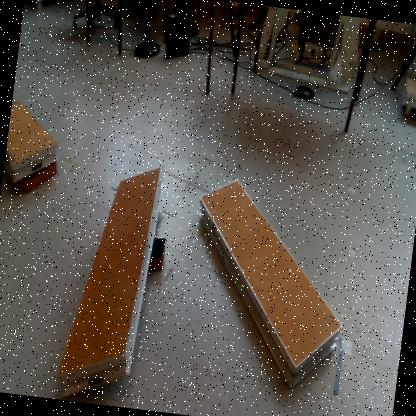Stairs: (198, 181, 342, 388), (60, 166, 164, 397), (4, 102, 57, 185)
